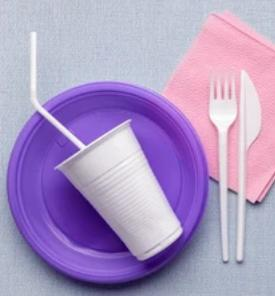Plastic: (48, 112, 189, 269)
